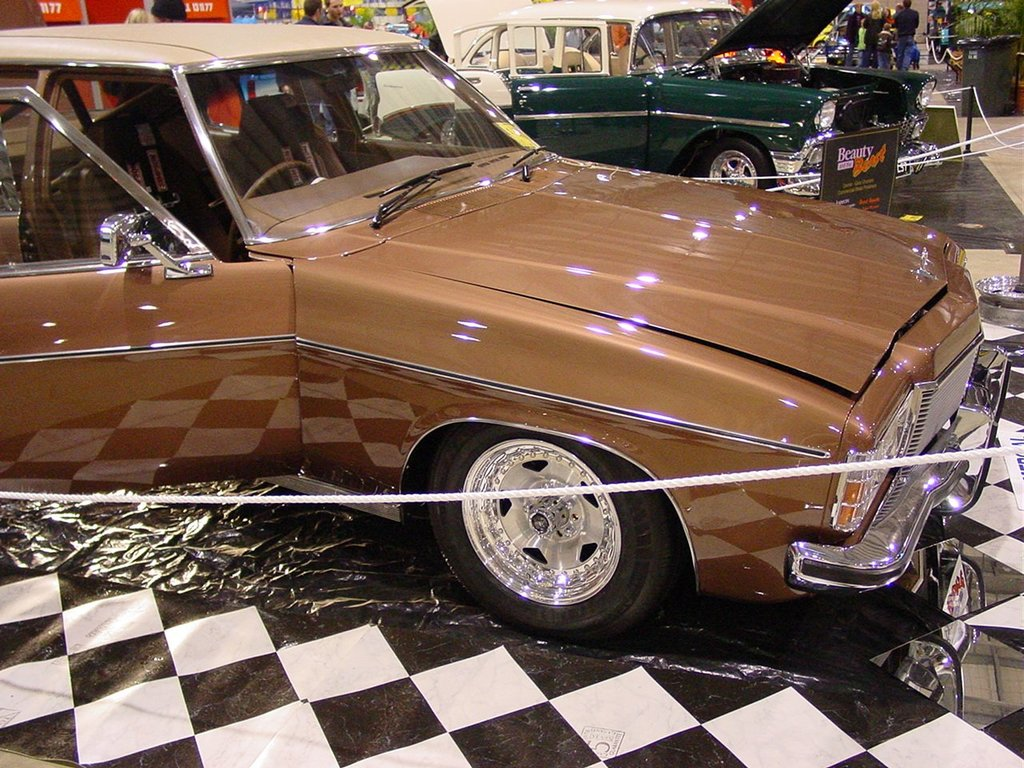Car: (0, 15, 1008, 644), (371, 0, 943, 202)
